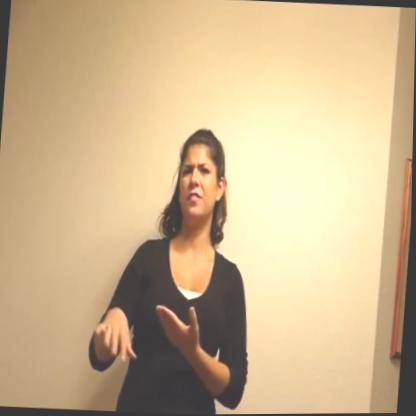Expensive: (87, 289, 213, 377)
